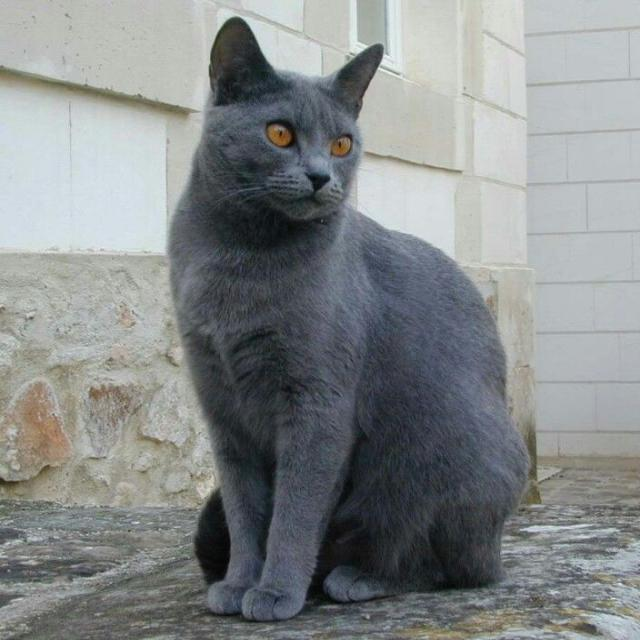british shorthair: (169, 17, 528, 620)
